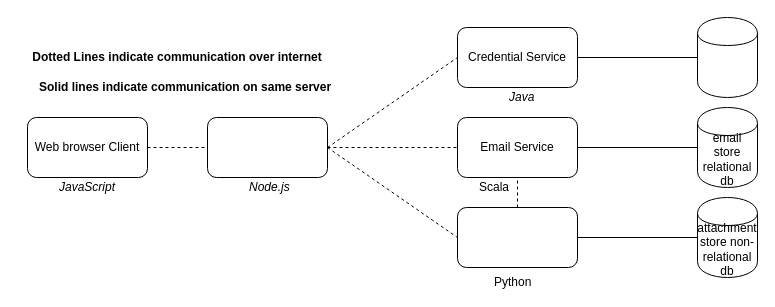
This 775x307 diagram has some shape labels left out. Each missing label, with the centre of its shape:
credential store relational db: the point at 727,57
Email Attachment Service: the point at 517,237
REST API gateway: the point at 267,147
